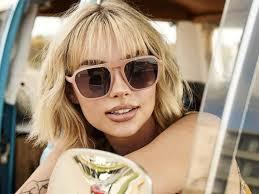sunglasses: (71, 54, 163, 104)
